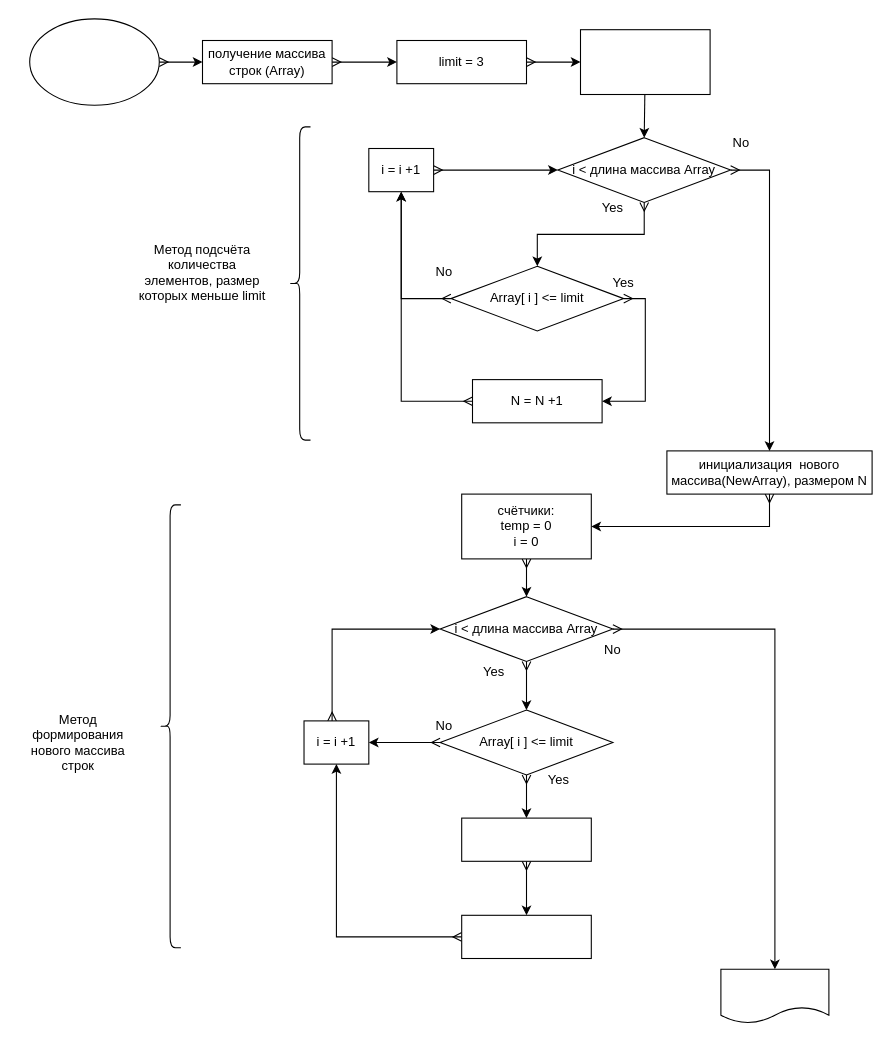
Some shapes in this 891 by 1042 pixel diagram are drawn without their labels. The shapes that lost their labels are listed below. From the top down, each one's centre as x and y in pixels, then its label:
At point 94,61: "start".
At point 644,61: "счётчики: N= 0 i = 0".
At point 526,839: "NewArray[ temp] = array[ i ]".
At point 526,936: "temp = temp +1".
At point 774,995: "NewArray".
